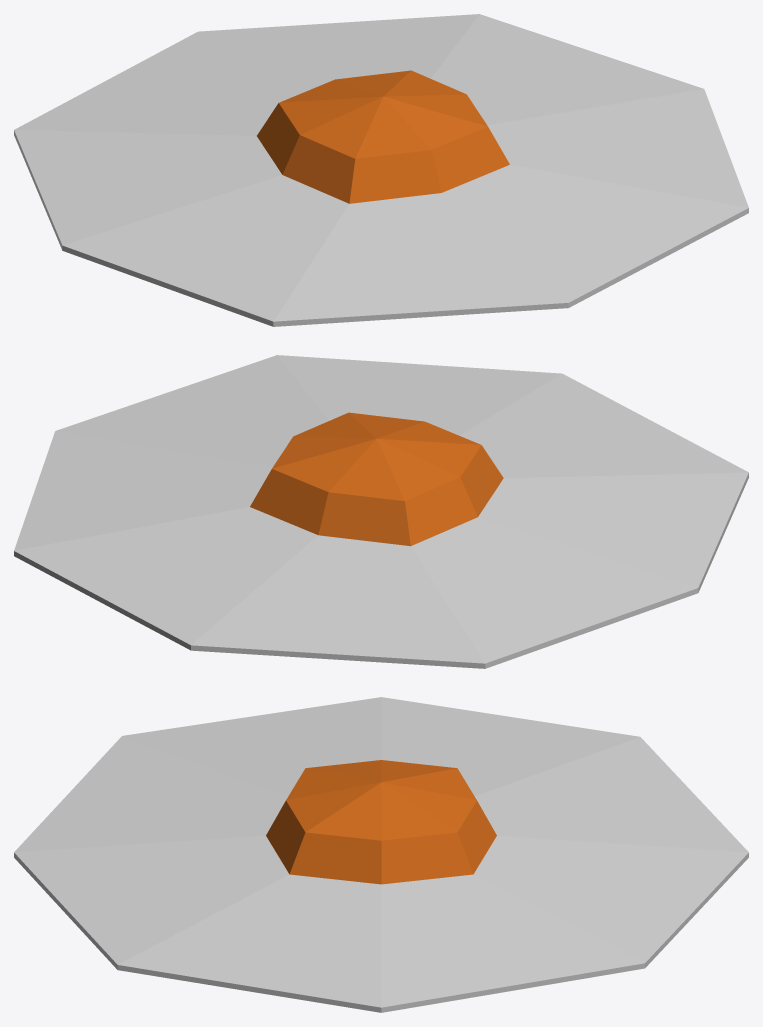
The model's file is friedEgg01.fbx.
3 views of the same model, one above another, from view 1: azimuth 30°, elevation 25°; view 2: azimuth 150°, elevation 25°; view 3: azimuth 270°, elevation 25° (orthographic).
Visible parts, largest first — view 1: friedEgg01; view 2: friedEgg01; view 3: friedEgg01.
Part boxes in pixels (x1,y1,x2,y2): friedEgg01: (14, 14, 748, 326); friedEgg01: (14, 355, 748, 668); friedEgg01: (14, 697, 748, 1012).
Bounding box in the file's own units: 17.05 × 1.93 × 17.05.
Materials: 1 (1 with a texture image).
